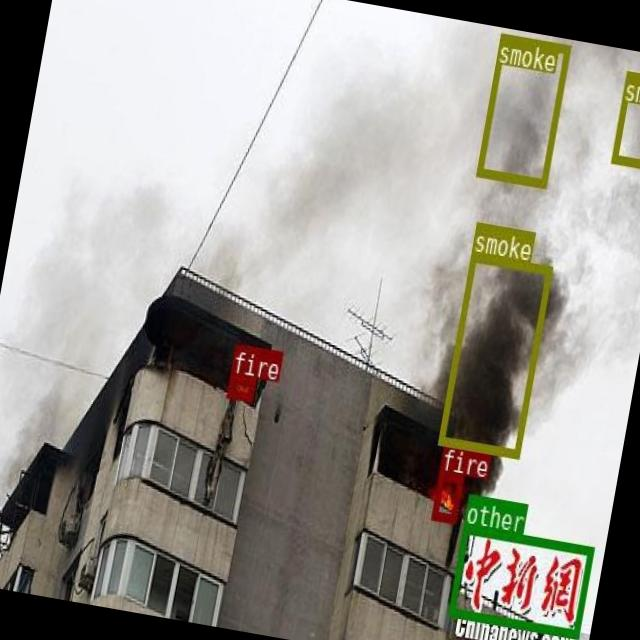fire: (432, 470, 464, 520), (226, 373, 254, 399)
smoke: (438, 250, 552, 458), (476, 33, 570, 186), (611, 70, 640, 169)
